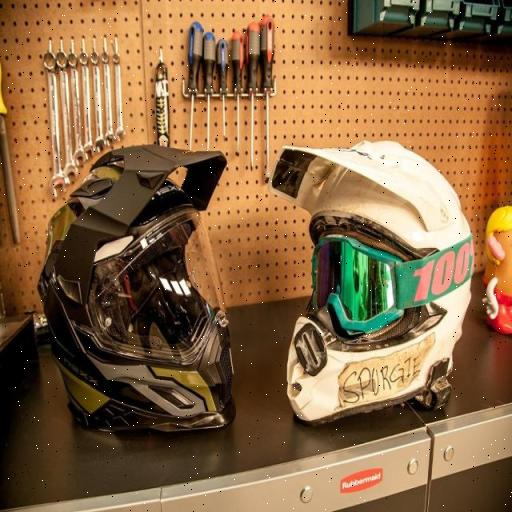Helmet: (270, 142, 473, 422), (40, 146, 234, 430)
